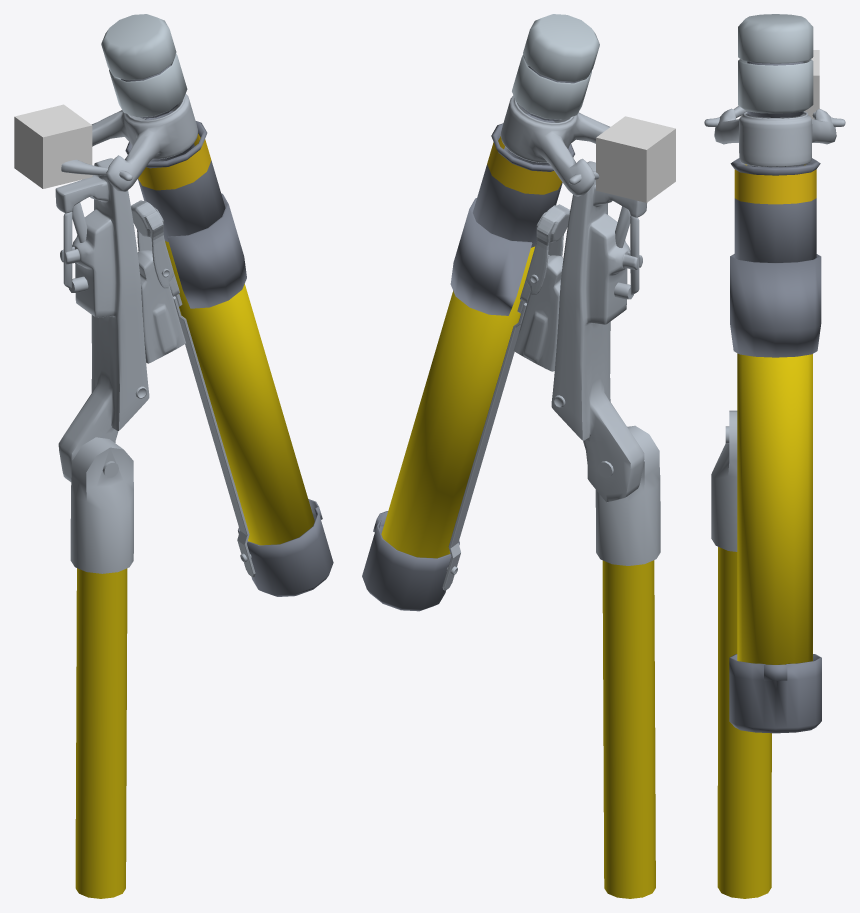
File: lbt.glb
The picture shows the model from 3 angles, left to right: view 1: azimuth 30°, elevation 25°; view 2: azimuth 150°, elevation 25°; view 3: azimuth 270°, elevation 25°; orthographic projection. The views are drawn at different scales.
Visible parts, largest first — view 1: Cylinder.011, Cylinder.001, Cube.002, Cylinder.007, Cylinder.003, TRG_lbt_position, Cylinder.006, Cylinder.002, Cylinder.009, Cube.006, Cylinder.005, Plane (+2 smaller); view 2: Cylinder.011, Cylinder.001, Cube.002, Cylinder.007, TRG_lbt_position, Cylinder.003, Cylinder.006, Cylinder.002, Cylinder.009, Cube.006, Cylinder.005, Plane (+2 smaller); view 3: Cylinder.001, Cylinder.011, Cylinder.003, Cylinder.007, Cylinder.002, Cylinder.006, Cylinder.005, Cylinder.009, TRG_lbt_position, Cylinder.008, Cube.001.
Part boxes in pixels (box(x1,y1,x2,y2)): Cylinder.011: box(70, 437, 133, 898); Cylinder.001: box(165, 241, 314, 545); Cube.002: box(55, 158, 149, 481); Cylinder.007: box(125, 121, 225, 241); Cylinder.003: box(167, 193, 246, 308); TRG_lbt_position: box(14, 104, 92, 188); Cylinder.006: box(91, 94, 198, 191); Cylinder.002: box(238, 499, 333, 596); Cylinder.009: box(101, 14, 176, 80); Cube.006: box(137, 249, 185, 363); Cylinder.005: box(109, 53, 187, 117); Plane: box(173, 294, 255, 577); Cylinder.011: box(595, 425, 660, 898); Cylinder.001: box(381, 246, 534, 558); Cube.002: box(551, 161, 646, 502); Cylinder.007: box(472, 123, 574, 247); TRG_lbt_position: box(596, 116, 675, 202); Cylinder.003: box(450, 198, 532, 315); Cylinder.006: box(500, 95, 609, 196); Cylinder.002: box(362, 511, 459, 611); Cylinder.009: box(523, 14, 599, 81); Cube.006: box(513, 255, 563, 371); Cylinder.005: box(512, 54, 591, 119); Plane: box(442, 300, 526, 590); Cylinder.001: box(737, 353, 812, 664); Cylinder.011: box(711, 410, 771, 898); Cylinder.003: box(730, 254, 821, 357); Cylinder.007: box(730, 158, 820, 262); Cylinder.002: box(729, 654, 821, 733); Cylinder.006: box(714, 108, 836, 167); Cylinder.005: box(738, 59, 813, 113); Cylinder.009: box(738, 14, 813, 63); TRG_lbt_position: box(804, 50, 819, 119); Cylinder.008: box(747, 61, 803, 117); Cube.001: box(704, 105, 845, 126).
Bounding box in the file's own units: 0.4009 × 1.1 × 0.1569.
